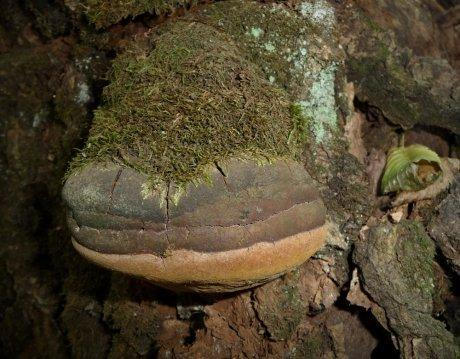Plum tinder fungus: (56, 74, 345, 295)
